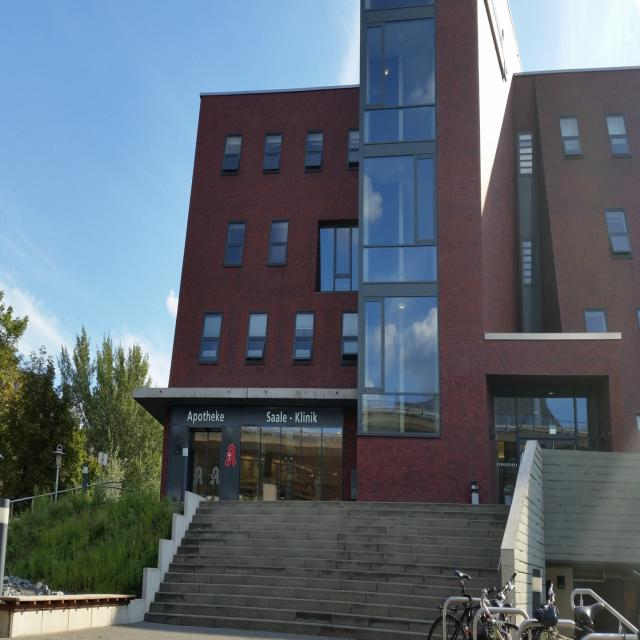AVOID: (138, 500, 509, 640)
